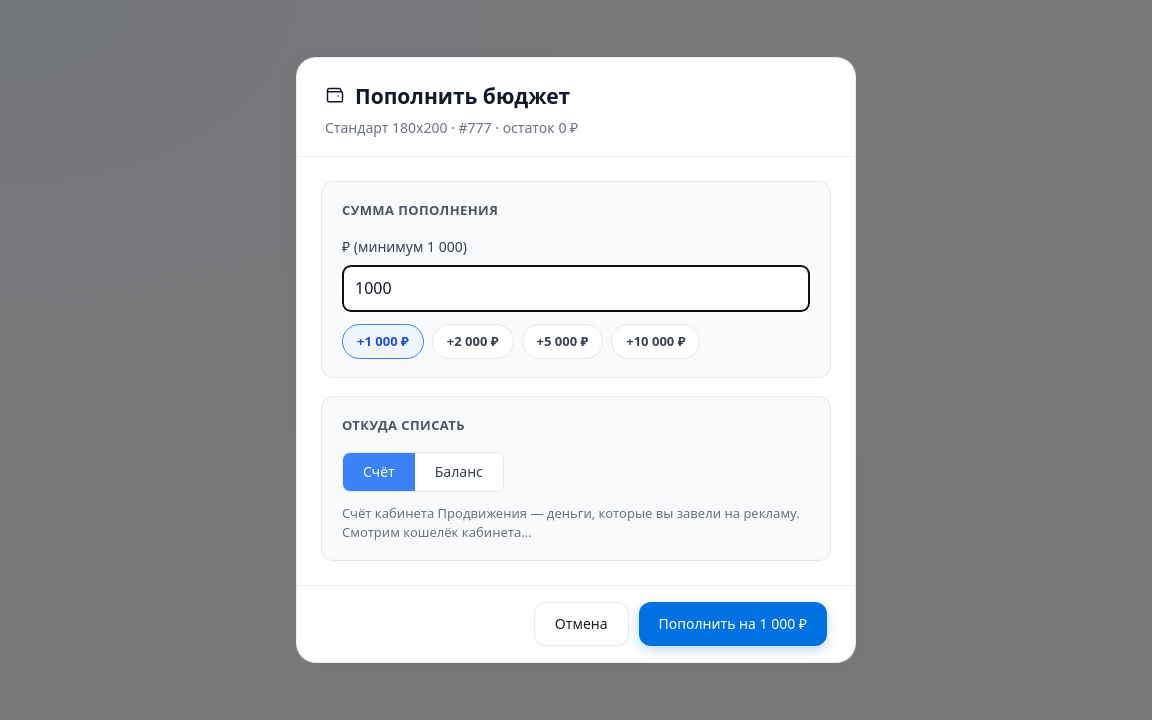
Test case: DepositModal › отказ WB показывается в окне, окно не закрывается
The width and height of the screenshot is (1152, 720).
Click the button "Пополнить на 1 000 ₽": (733, 624) top-left (639, 602), bottom-right (827, 646)
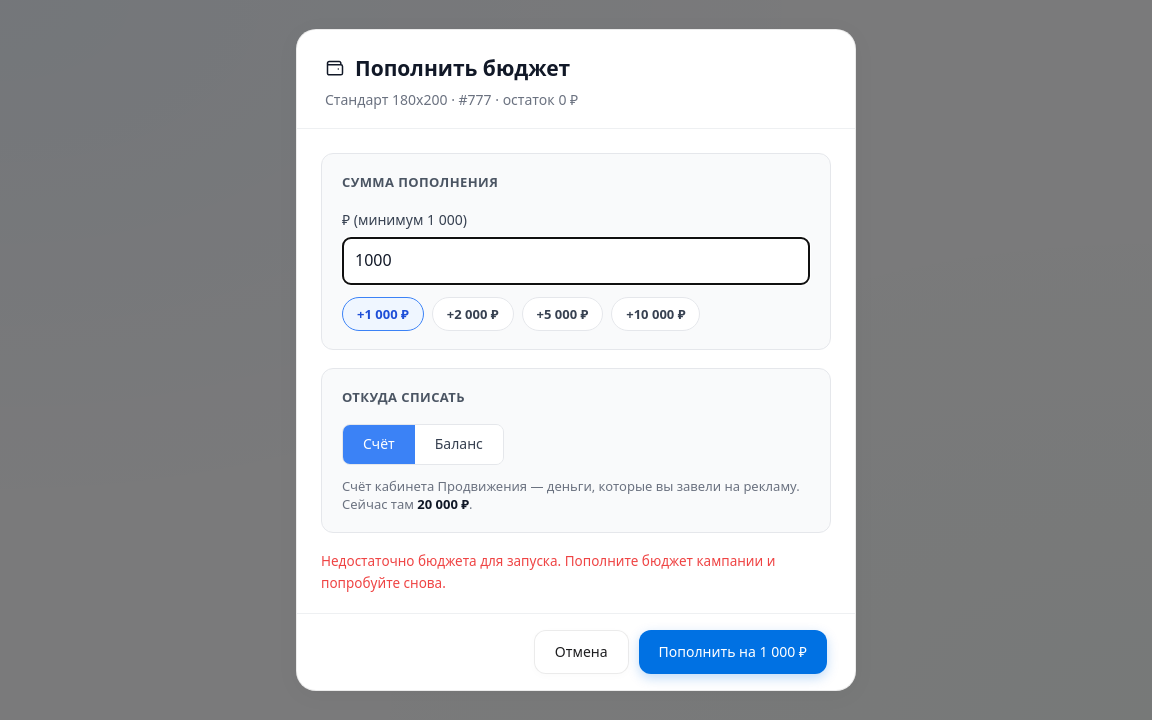
expect the text "Недостаточно бюджета" is shown: met, box top-left (321, 552), bottom-right (775, 592)
